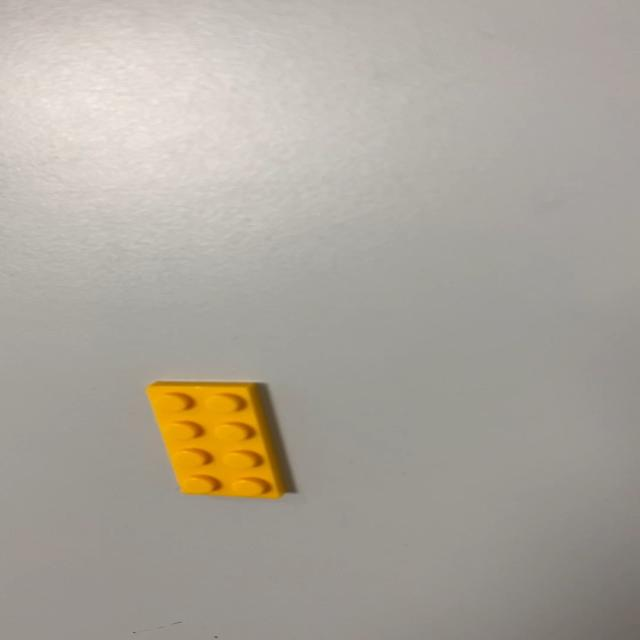C4x2x0: (144, 380, 287, 500)
